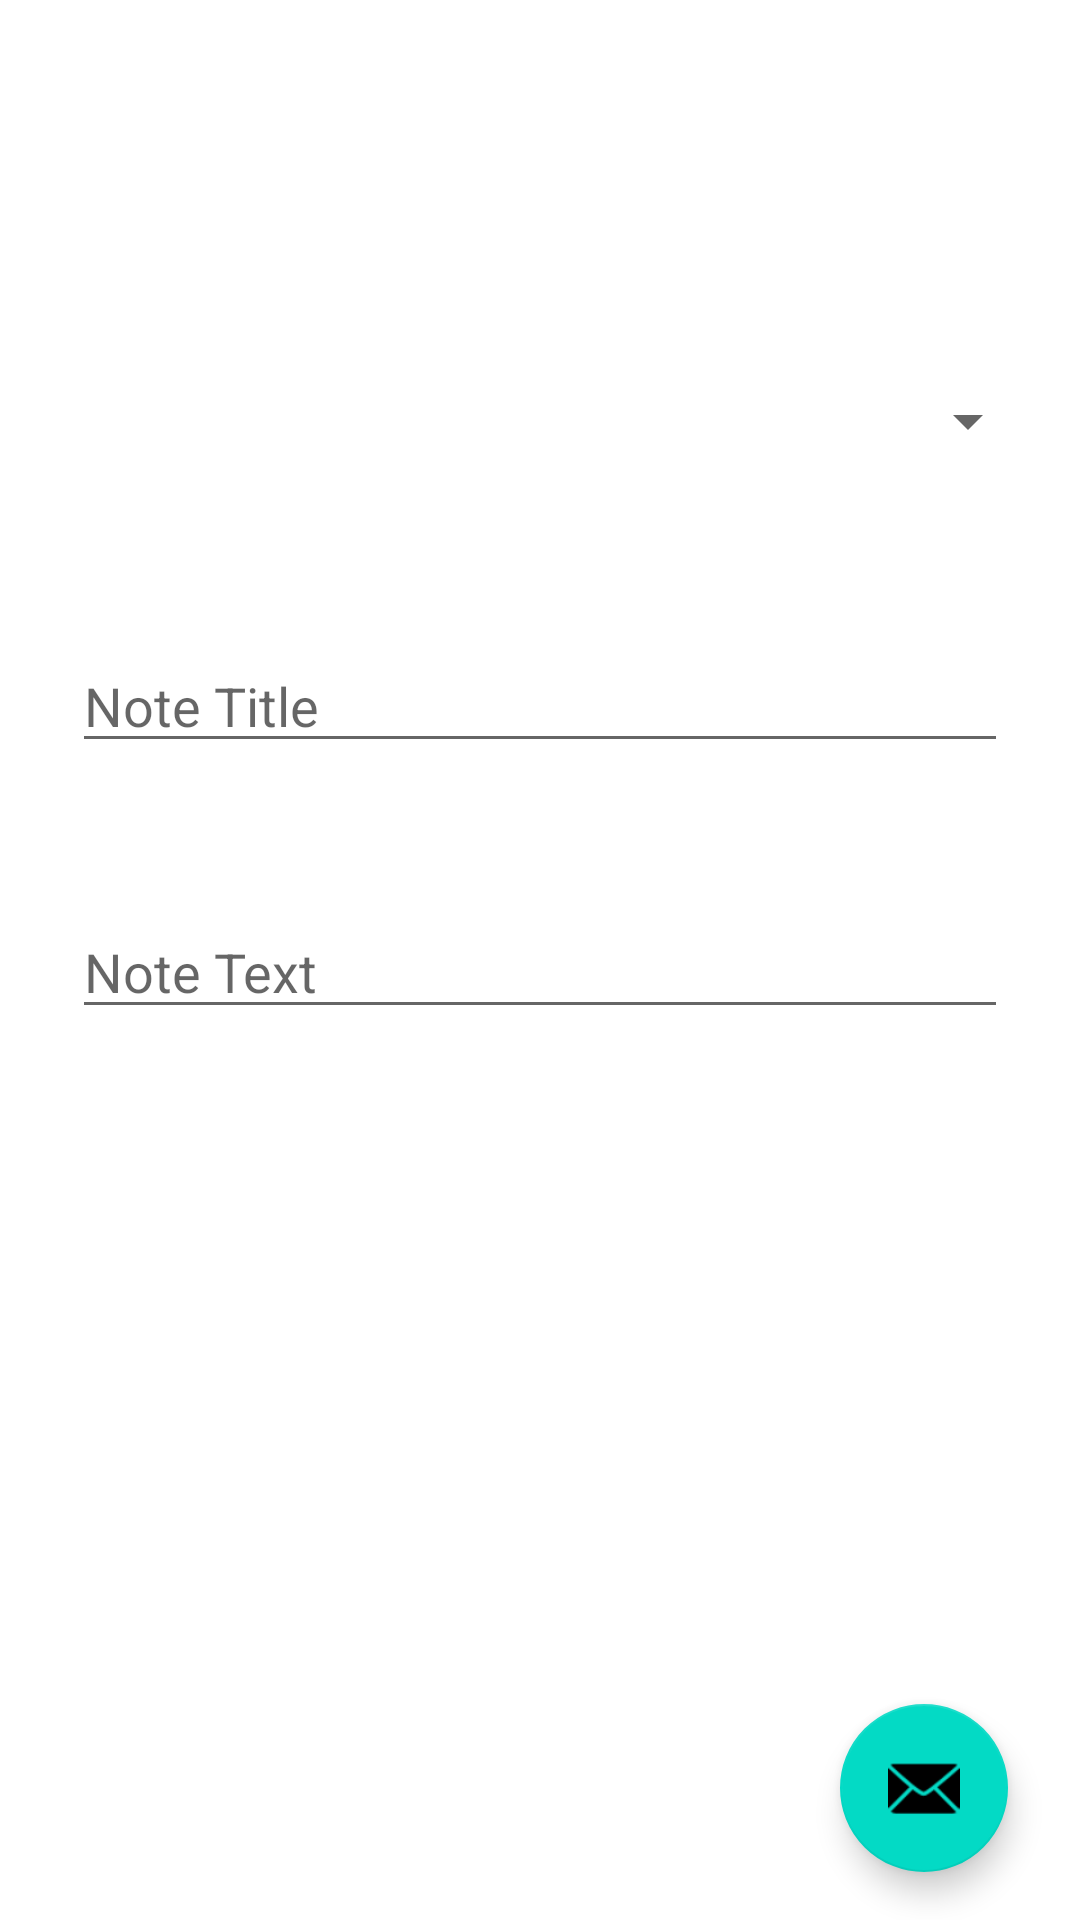

Where icons sit on this 1080×1920 app screen, as (x1=x1, y1=y1, x2=x2, y2=y2):
email: (x1=840, y1=1704, x2=1008, y2=1872)
